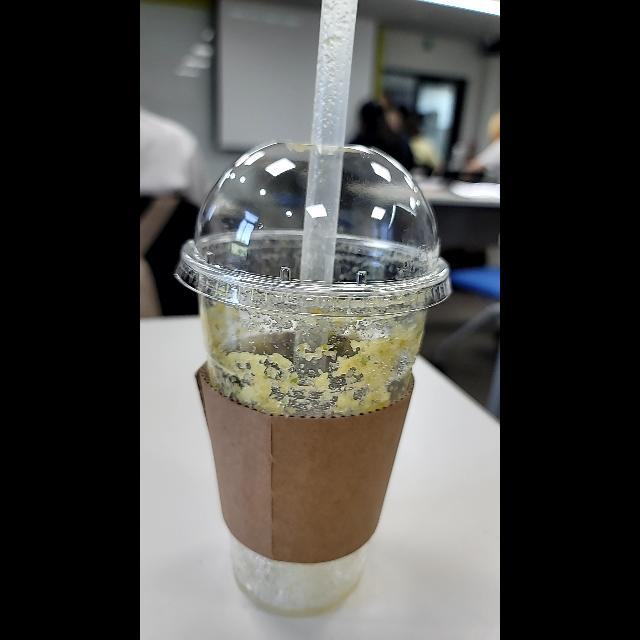plastic_cup: (189, 133, 425, 614)
plastic_cup_lid: (177, 128, 451, 322)
straw: (308, 2, 337, 346)
